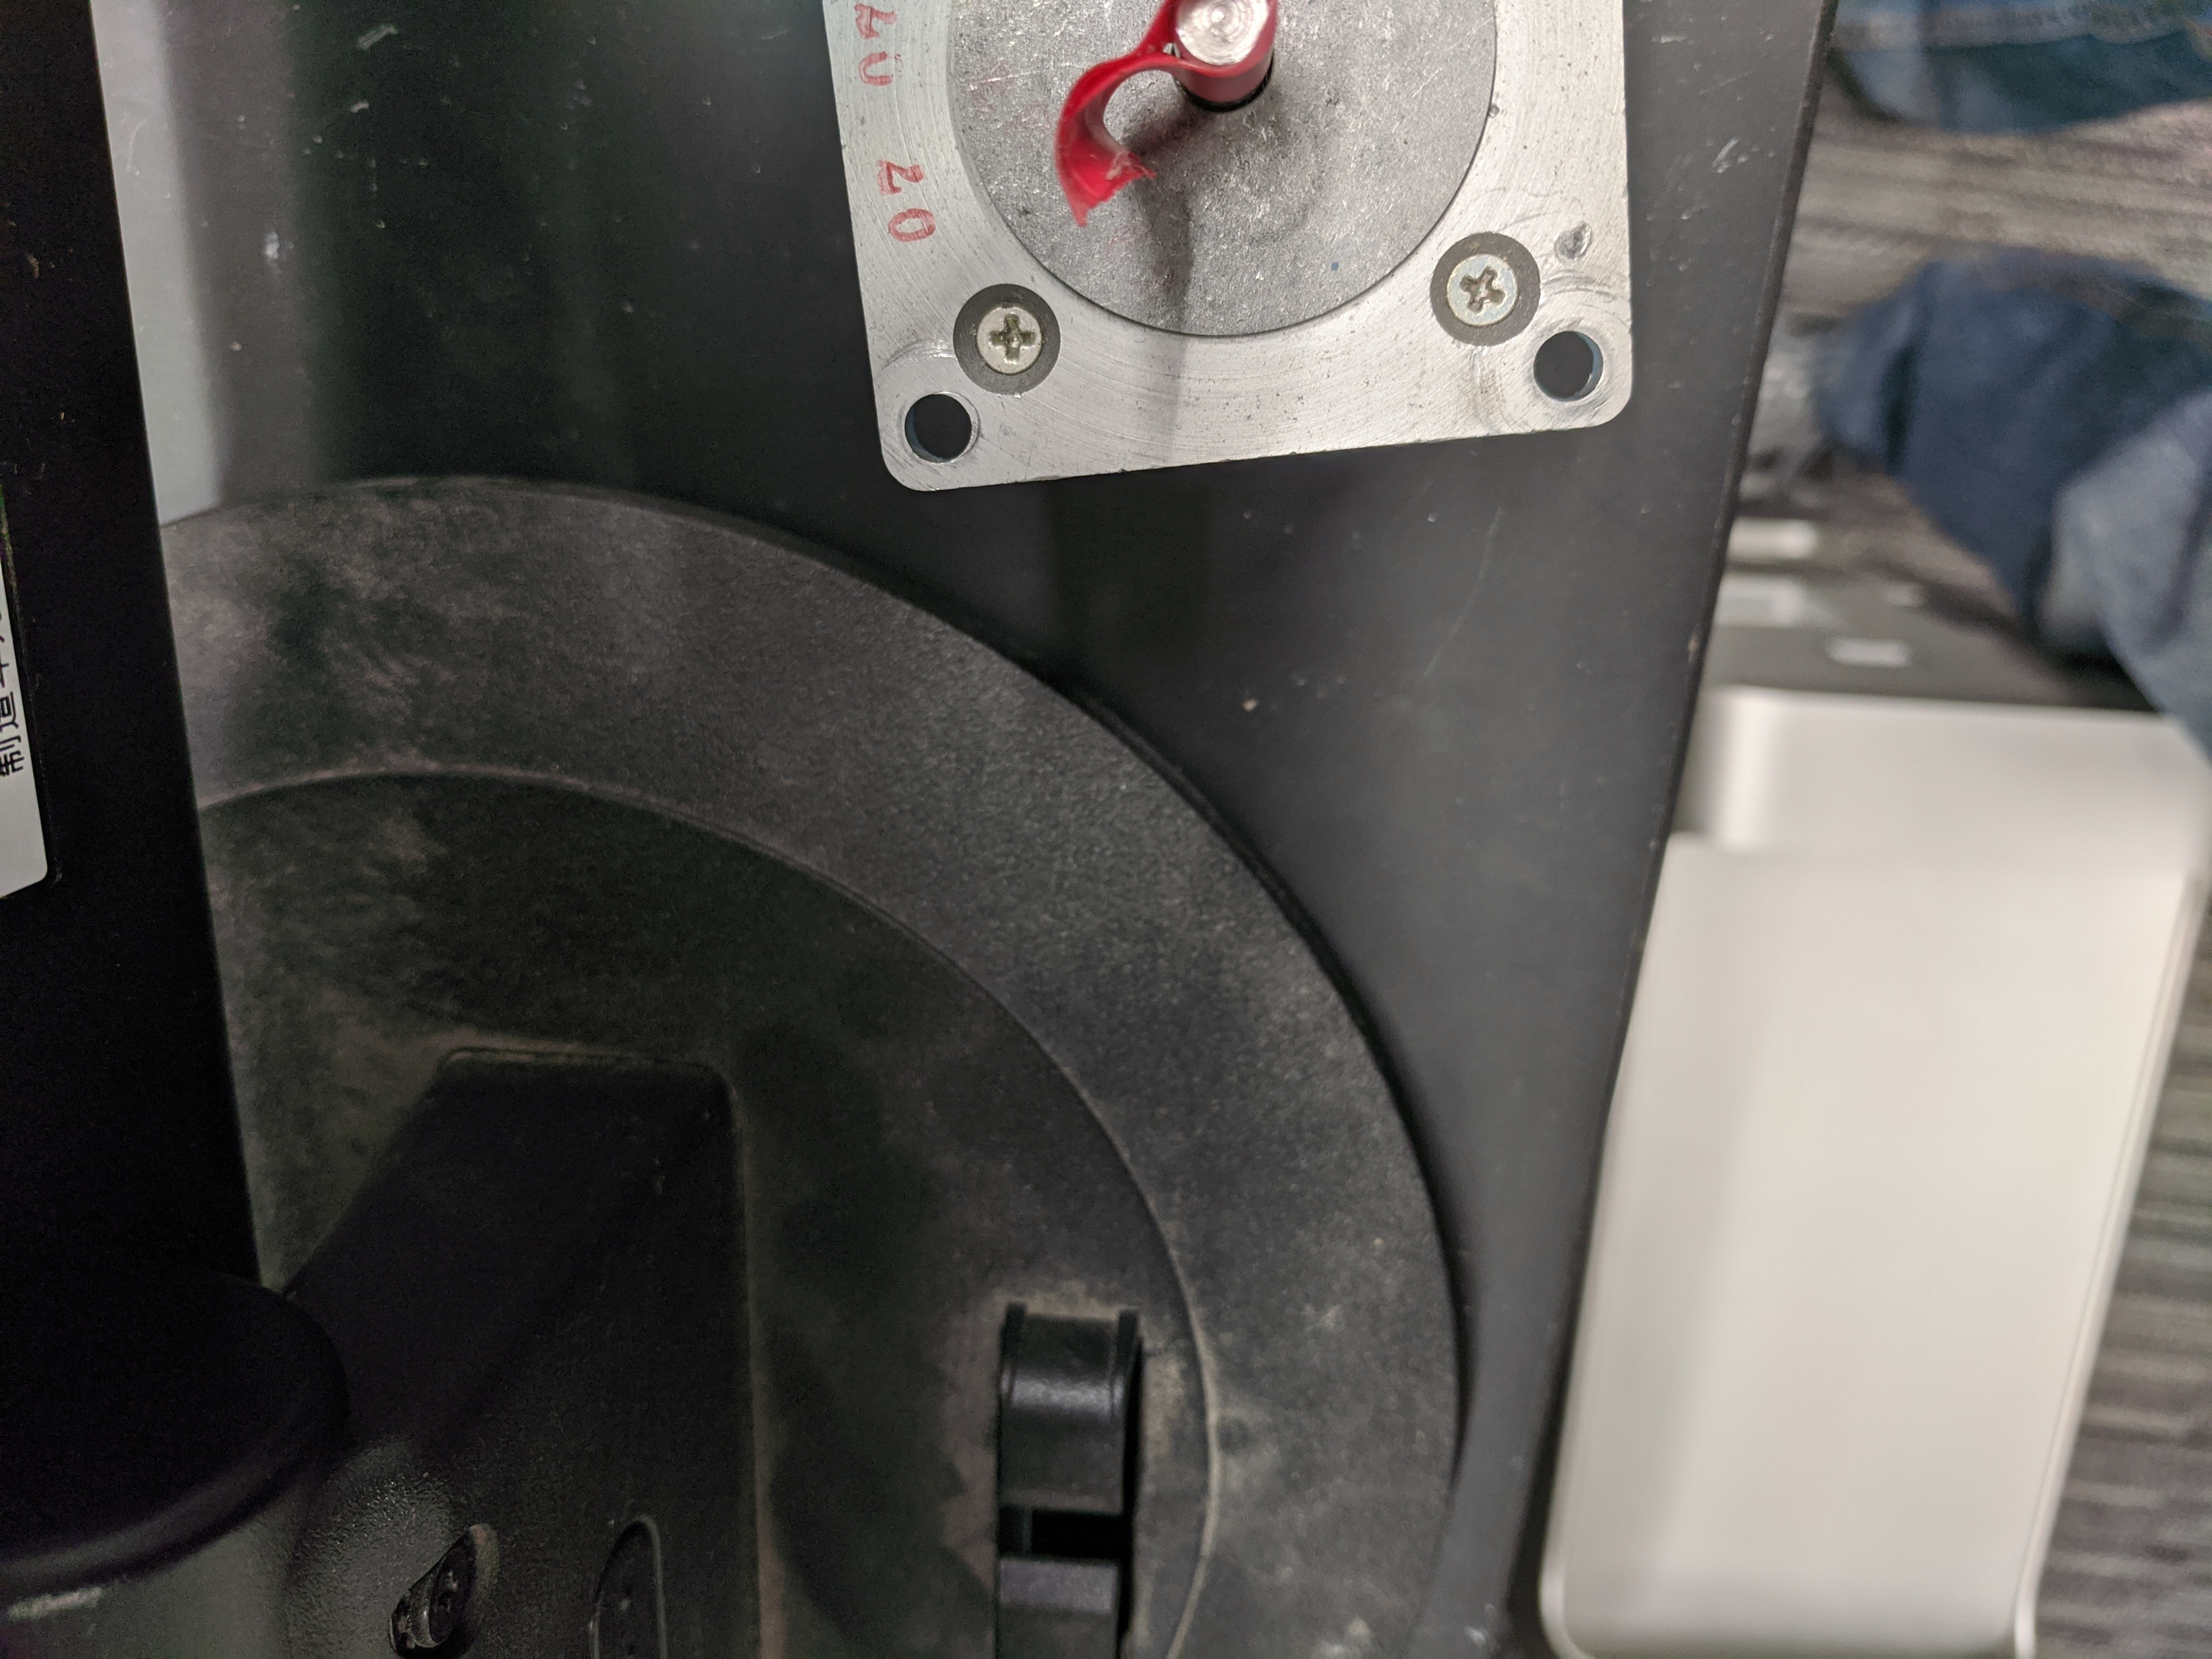cross_recessed_screw: (958, 284, 1049, 371), (1440, 251, 1519, 319)
